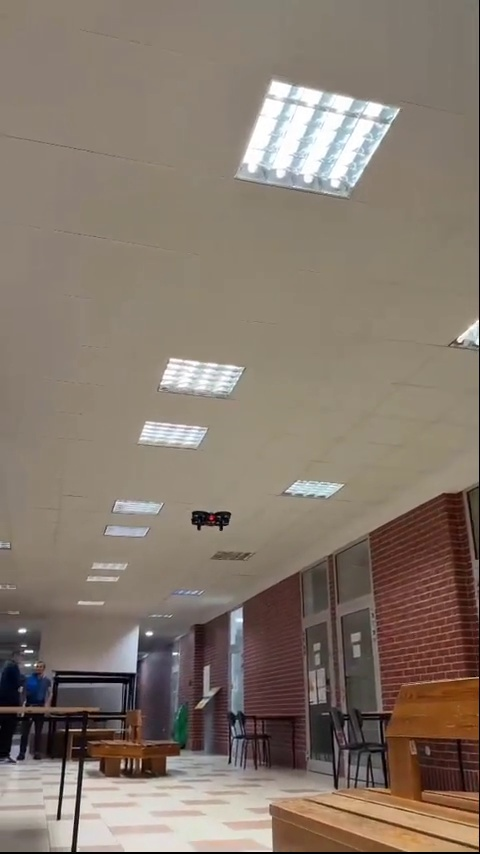drone: (191, 510, 232, 531)
no vest: (0, 656, 27, 748), (29, 656, 51, 713)
